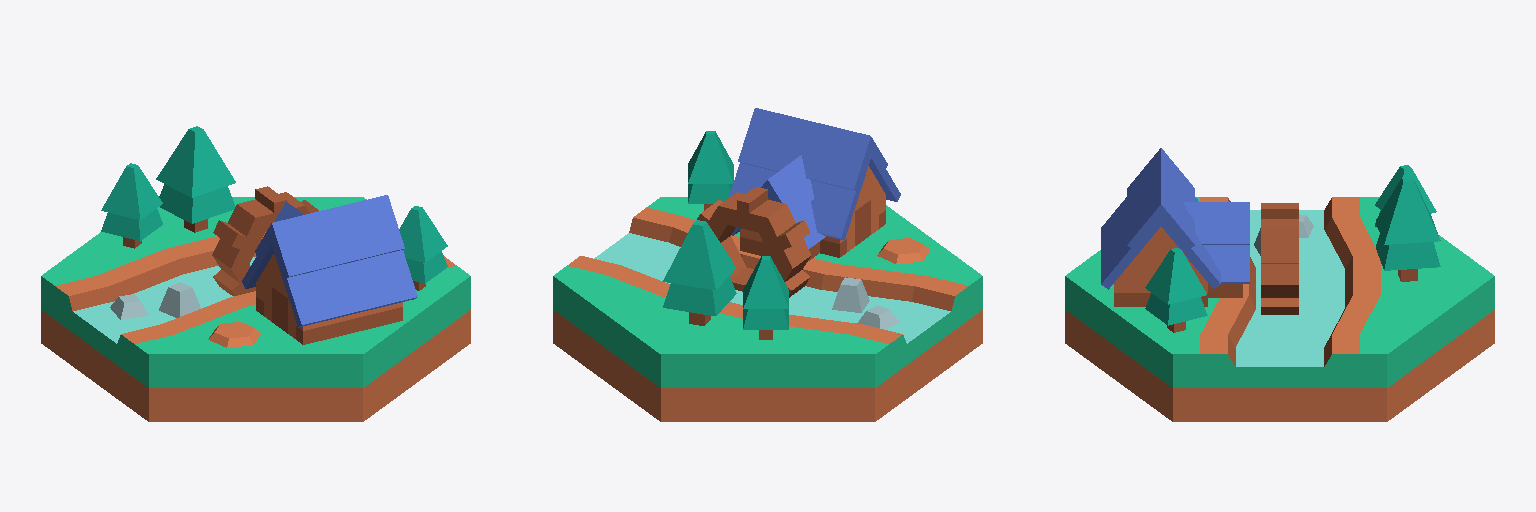
File: building_water.obj
3 views of the same model, side by side, from view 1: azimuth 30°, elevation 25°; view 2: azimuth 150°, elevation 25°; view 3: azimuth 270°, elevation 25° (orthographic).
Parts seen in each view (by area): view 1: building_water, building, tree, wheel, rock, path; view 2: building_water, building, tree, wheel, rock, path; view 3: building_water, building, tree, wheel.
Boxes of the visible parts, x1=… form: building_water: x1=41, y1=197, x2=470, y2=421; building: x1=242, y1=195, x2=417, y2=344; tree: x1=101, y1=126, x2=447, y2=290; wheel: x1=212, y1=186, x2=318, y2=295; rock: x1=110, y1=282, x2=200, y2=319; path: x1=208, y1=322, x2=260, y2=347; building_water: x1=553, y1=197, x2=982, y2=421; building: x1=729, y1=108, x2=900, y2=260; tree: x1=663, y1=131, x2=788, y2=339; wheel: x1=697, y1=187, x2=810, y2=297; rock: x1=832, y1=277, x2=899, y2=329; path: x1=877, y1=238, x2=929, y2=263; building_water: x1=1065, y1=197, x2=1494, y2=421; building: x1=1101, y1=148, x2=1249, y2=306; tree: x1=1145, y1=165, x2=1440, y2=332; wheel: x1=1261, y1=203, x2=1298, y2=314.
Size of the model in its own units: 1 by 0.5176 by 1.15.